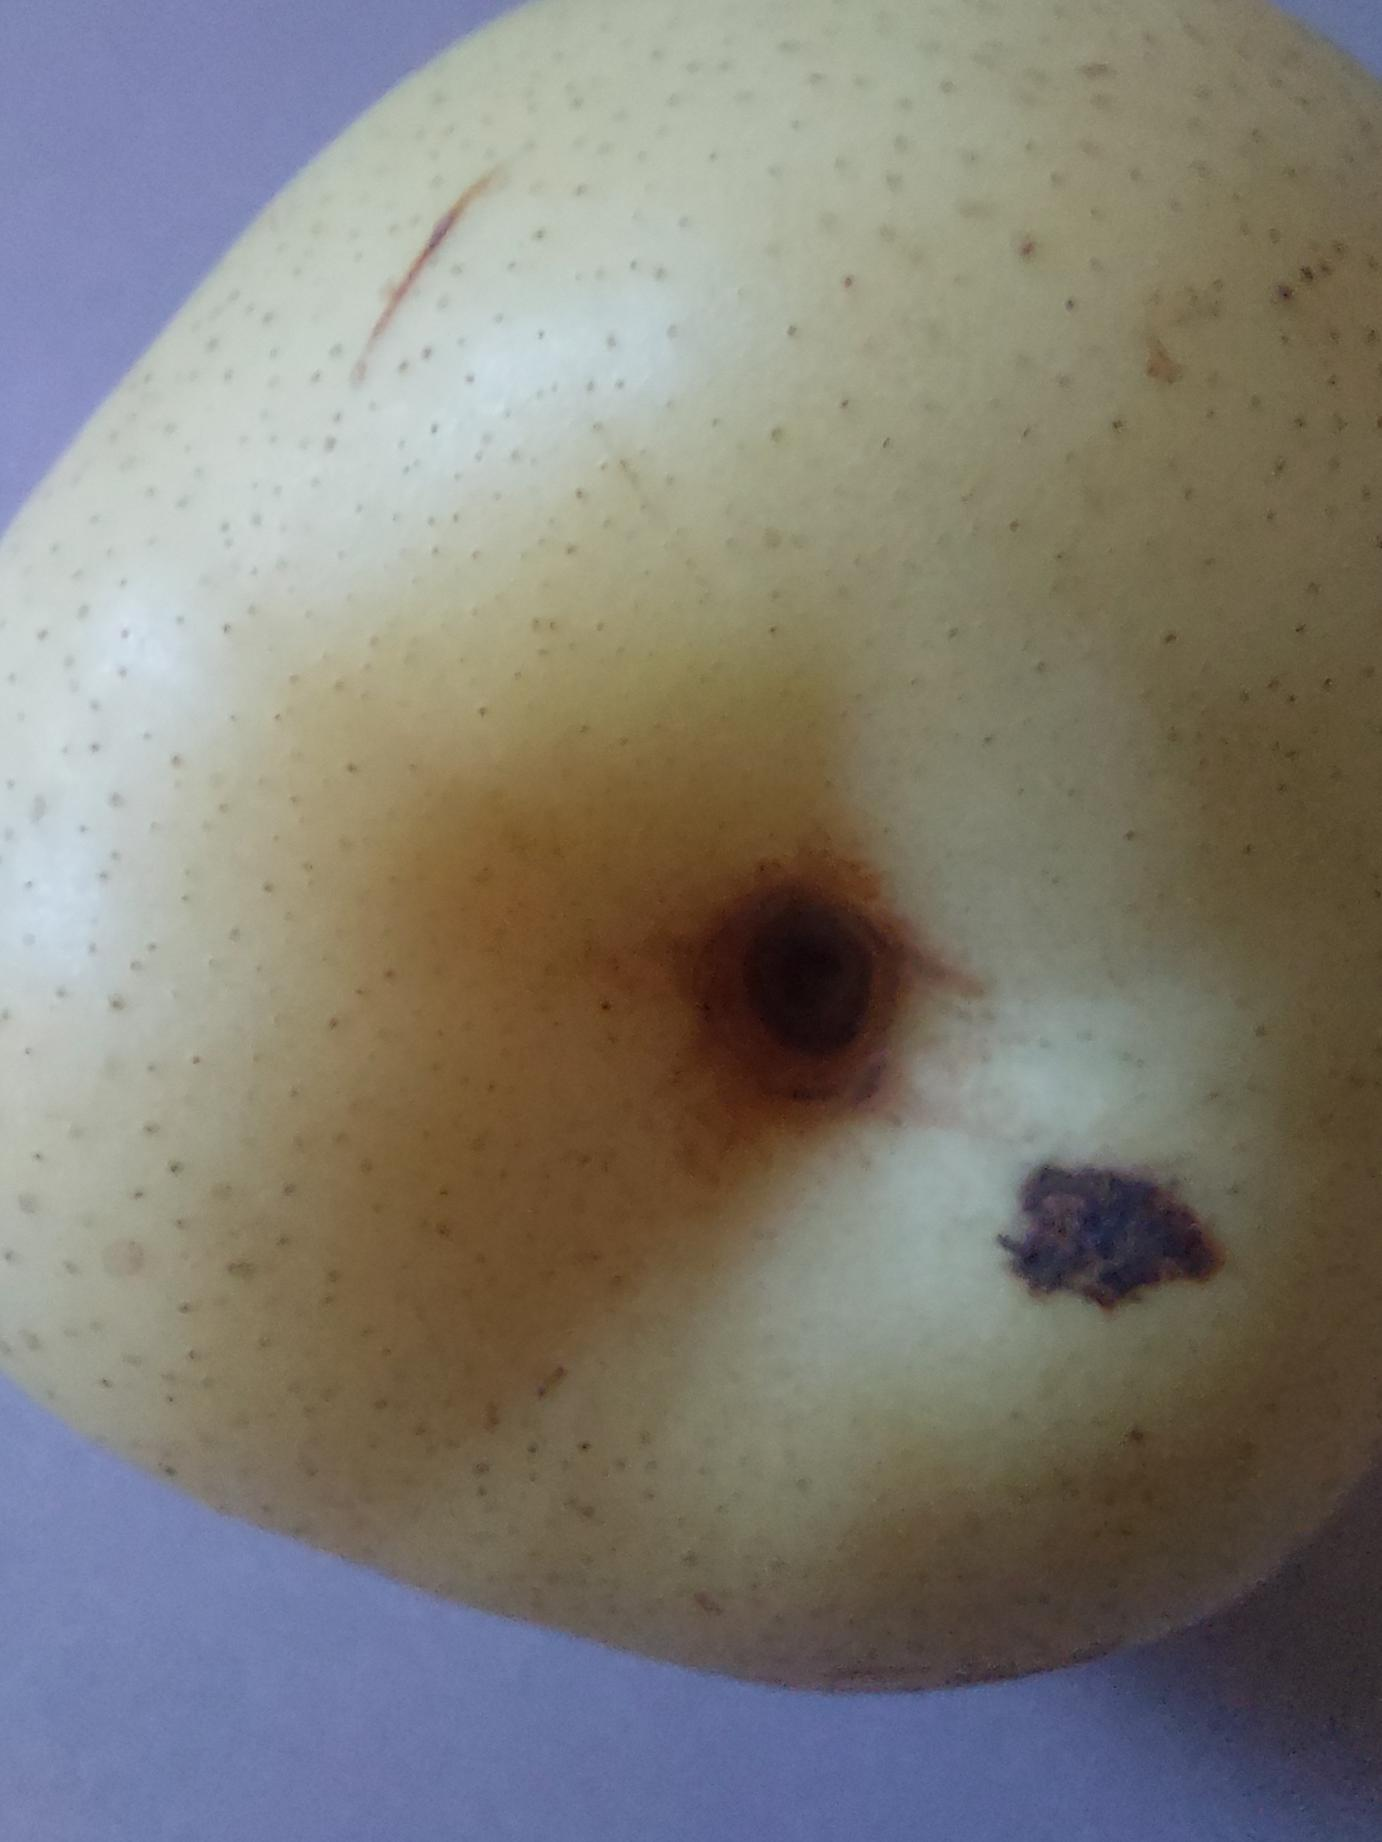Good Pear: (0, 0, 1382, 1732)
